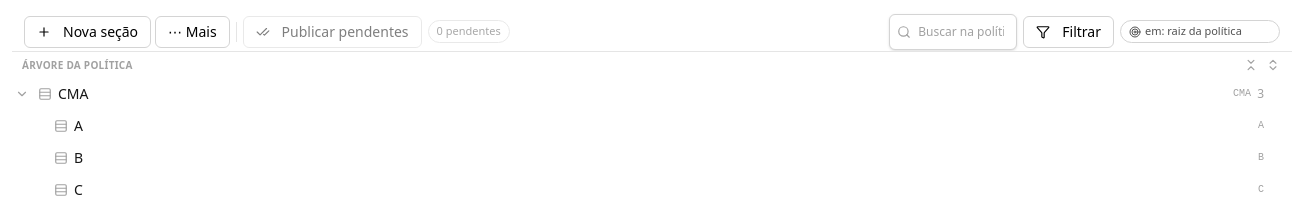
PolicyTree — filtro preserva ancestrais (§17.1) › filtro sem nenhum resultado tem estado próprio, com "Limpar filtros" (§12, S44)
The width and height of the screenshot is (1292, 213).
In the field named "Buscar na árvore": (953, 32) left=889, top=14, right=1017, bottom=50, type "não existe nada assim"
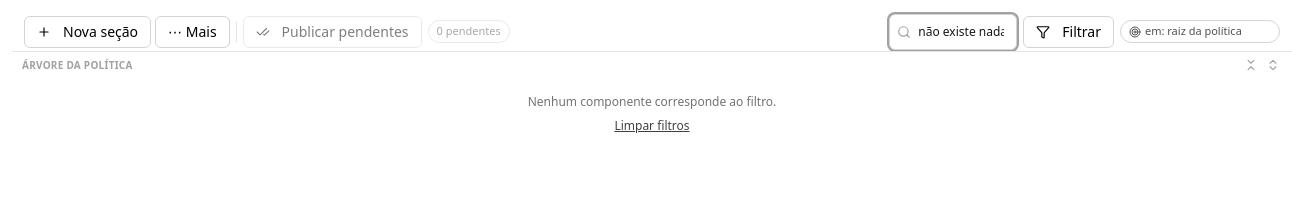
Result: the text "Nenhum componente corresponde ao filtro." is shown at left=528, top=94, right=776, bottom=110
Result: the list item with test id "tree-node-CMA" is gone
Click the button "Limpar filtros": (652, 126) left=614, top=118, right=690, bottom=134
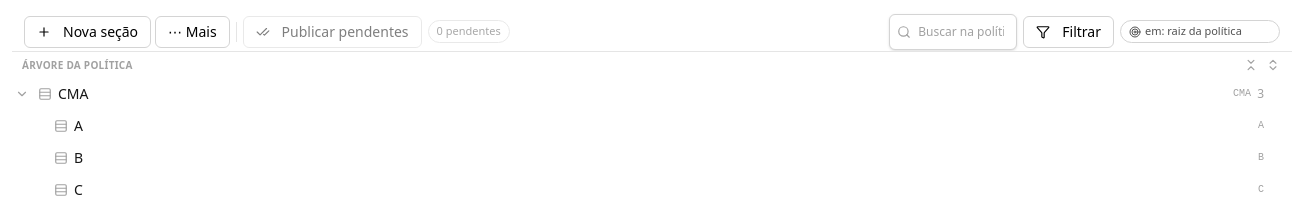
Result: the list item with test id "tree-node-CMA" is shown at left=12, top=78, right=1291, bottom=110
Result: the text "Nenhum componente corresponde ao filtro." is gone
